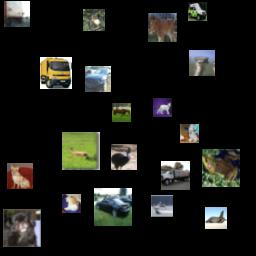airplane: (205, 207, 227, 229)
automobile: (94, 188, 132, 226), (85, 66, 111, 92), (188, 2, 207, 21)
bird: (111, 144, 137, 170), (189, 50, 215, 76)
cat: (153, 98, 172, 117), (62, 194, 81, 213)
deer: (62, 132, 100, 170), (83, 9, 105, 31)
dog: (3, 209, 41, 247), (7, 163, 33, 189), (180, 124, 199, 143)
frog: (202, 149, 240, 187)
ship: (151, 195, 173, 217)
truck: (40, 57, 72, 89), (161, 161, 190, 190), (4, 1, 30, 27)
